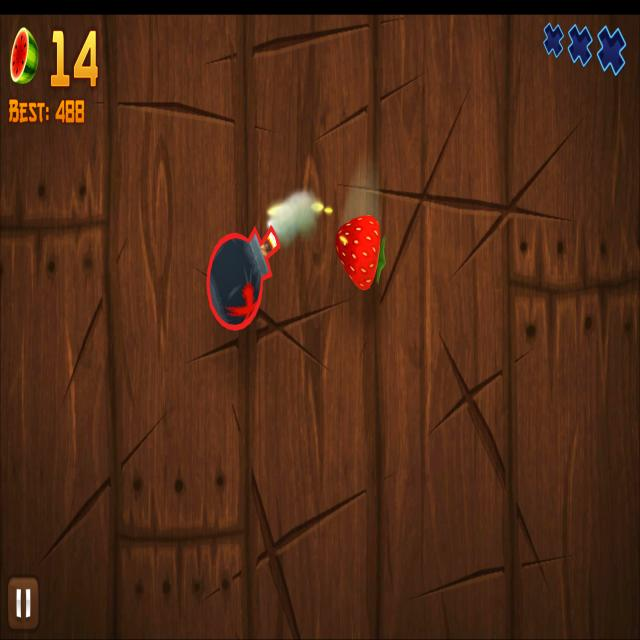bomb: (205, 225, 280, 332)
fruit: (334, 214, 382, 290)
